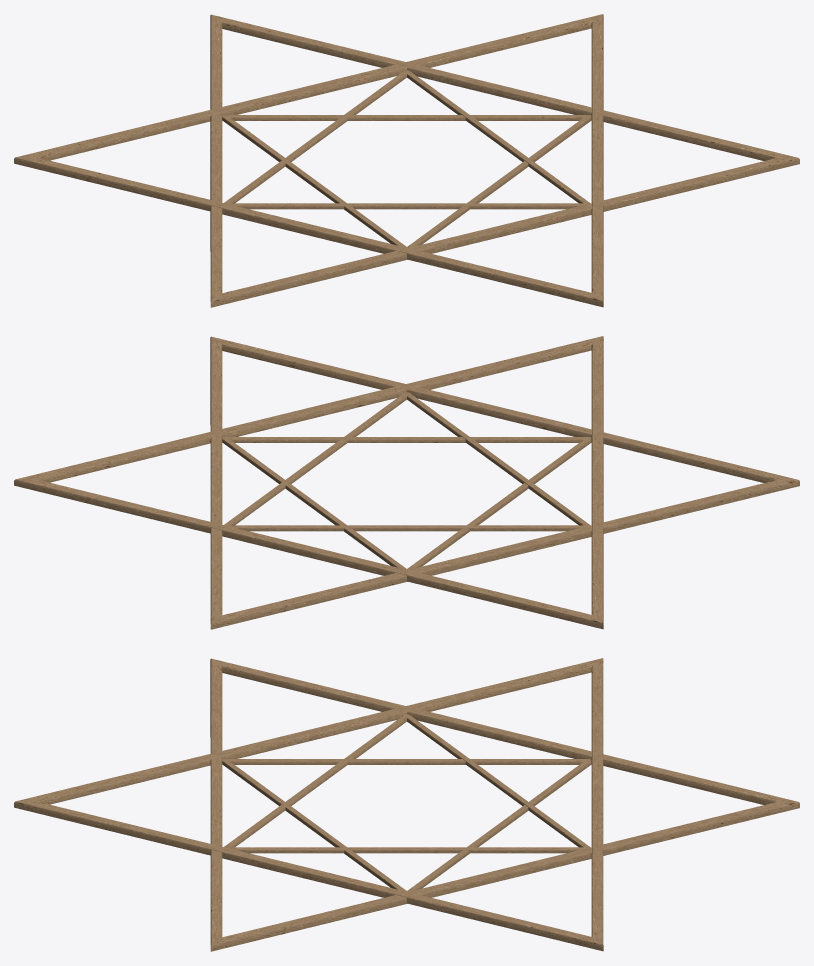
File: mesh-liumanxing.FBX
The picture shows the model from 3 angles, top to bottom: view 1: azimuth 30°, elevation 25°; view 2: azimuth 150°, elevation 25°; view 3: azimuth 270°, elevation 25°; orthographic projection.
Visible parts, largest first — view 1: liumanxing; view 2: liumanxing; view 3: liumanxing.
Boxes of the visible parts, <box> form: liumanxing: <box>14,14,799,307</box>; liumanxing: <box>14,336,799,629</box>; liumanxing: <box>14,658,799,951</box>.
Bounding box in the file's own units: 1992 × 21.44 × 2300.
